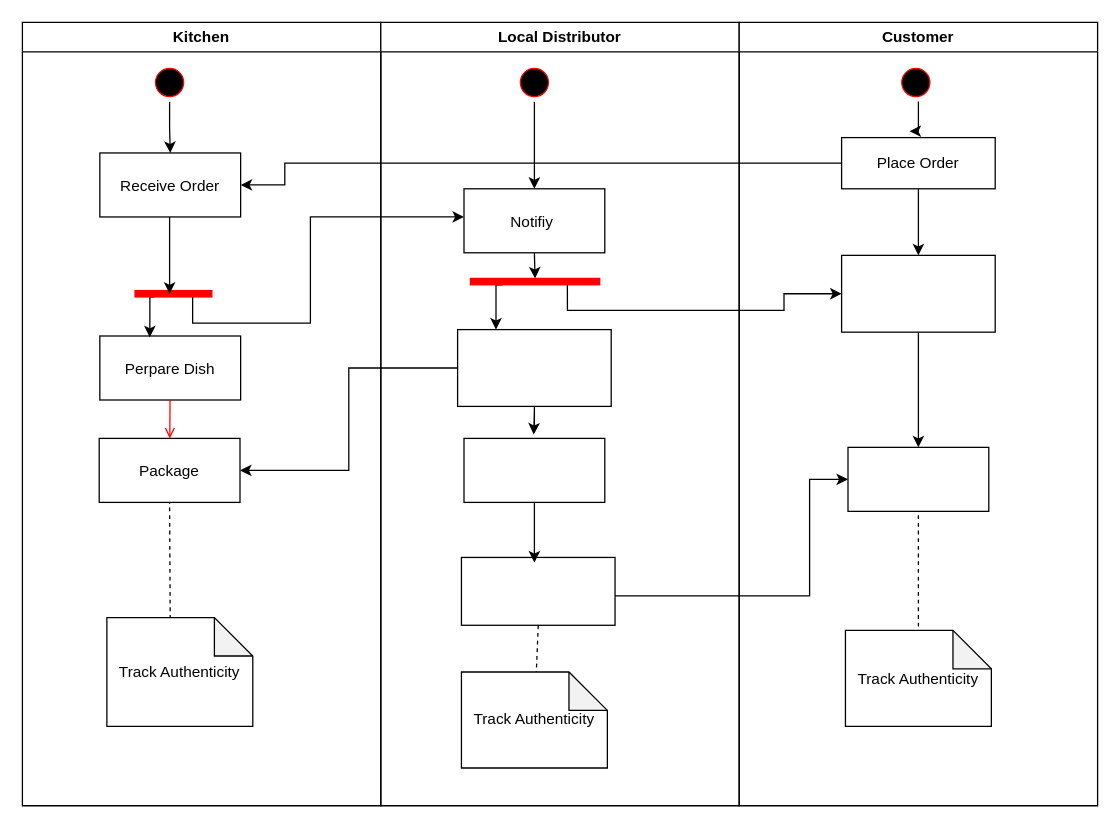
The diagram is 1120 pixels wide and 828 high, and some of its shapes have lost their labels. The centre of each missing label's shape, as x and y in pixels:
"Collect from kitchen" goes at point 533,367.
"Delivery Received" goes at point 918,478.
"Delivey boy collects delivers to the address" goes at point 537,590.
"Order Received Confirmation" goes at point 917,293.
"Route to the local distributor" goes at point 534,469.
